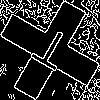T: (25, 25, 74, 80)
